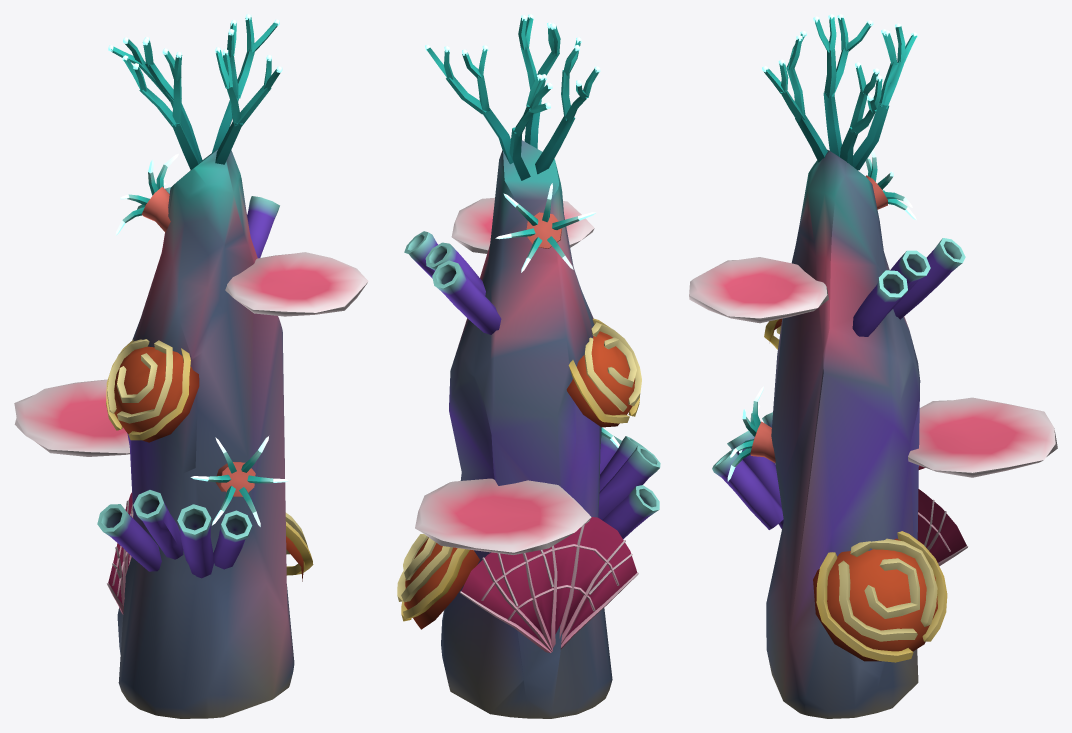
The model's file is coral_tower.glb.
3 views of the same model, side by side, from view 1: azimuth 30°, elevation 25°; view 2: azimuth 150°, elevation 25°; view 3: azimuth 270°, elevation 25° (orthographic).
Visible parts, largest first — view 1: coral_tower; view 2: coral_tower; view 3: coral_tower.
Part boxes in pixels (bbox=[...]): coral_tower: bbox=[14, 14, 368, 718]; coral_tower: bbox=[397, 14, 660, 718]; coral_tower: bbox=[689, 14, 1057, 718].
Bounding box in the file's own units: 2.92 × 8 × 4.12.
